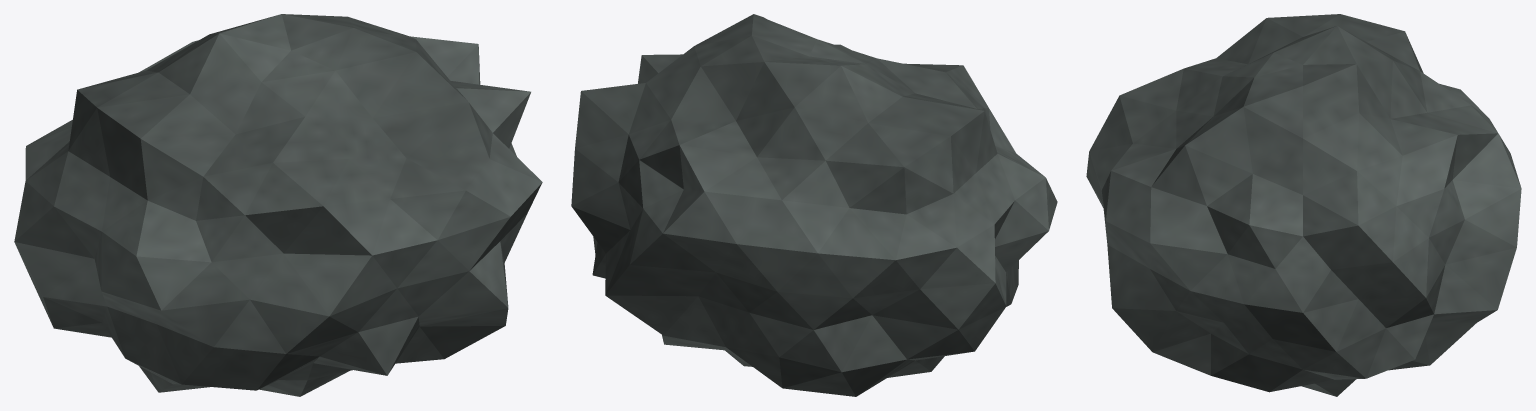
The model's file is boulder.glb.
3 views of the same model, side by side, from view 1: azimuth 30°, elevation 25°; view 2: azimuth 150°, elevation 25°; view 3: azimuth 270°, elevation 25° (orthographic). The views are drawn at different scales.
Visible parts, largest first — view 1: Boulder; view 2: Boulder; view 3: Boulder.
Boxes of the visible parts, left/top/right/bottom form: Boulder: left=14, top=14, right=542, bottom=396; Boulder: left=571, top=14, right=1057, bottom=396; Boulder: left=1086, top=14, right=1521, bottom=396.
Bounding box in the file's own units: 2.97 × 2.16 × 2.63.
1 material, 1 textured.
